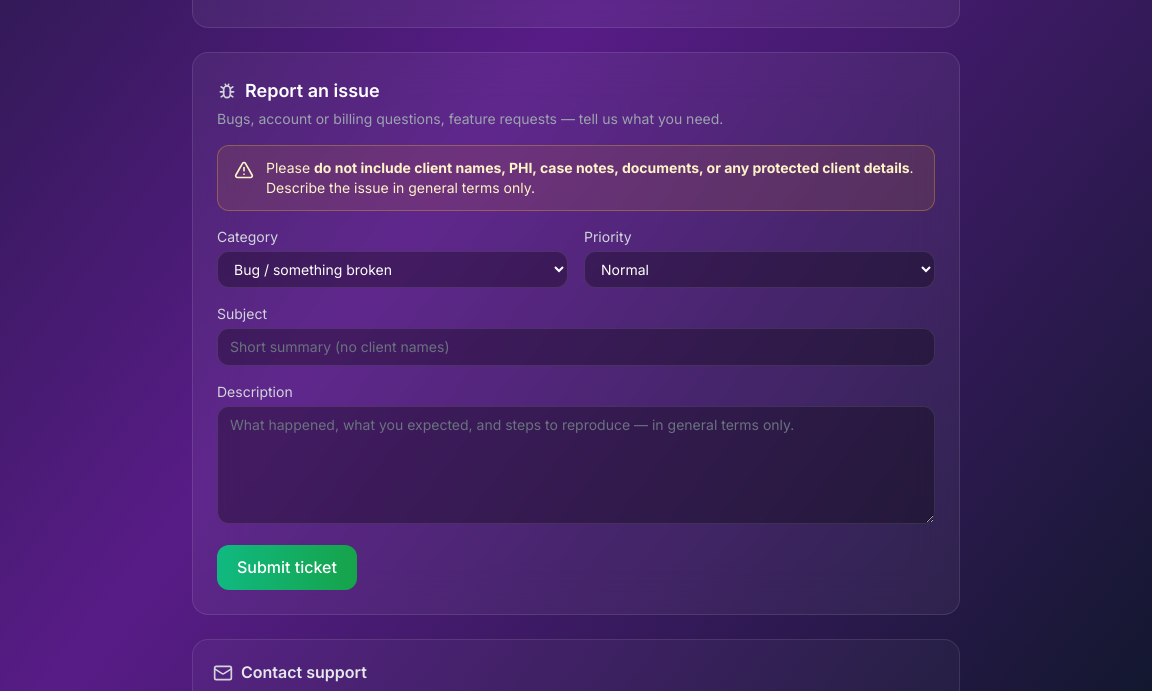
Test: Help & Support page › submits a support ticket to the API
The image size is (1152, 691).
(page scrolled)
Step 1. Type "Cannot log in" into the field with placeholder "Short summary (no client names)" → (576, 347), box [217, 328, 935, 366]
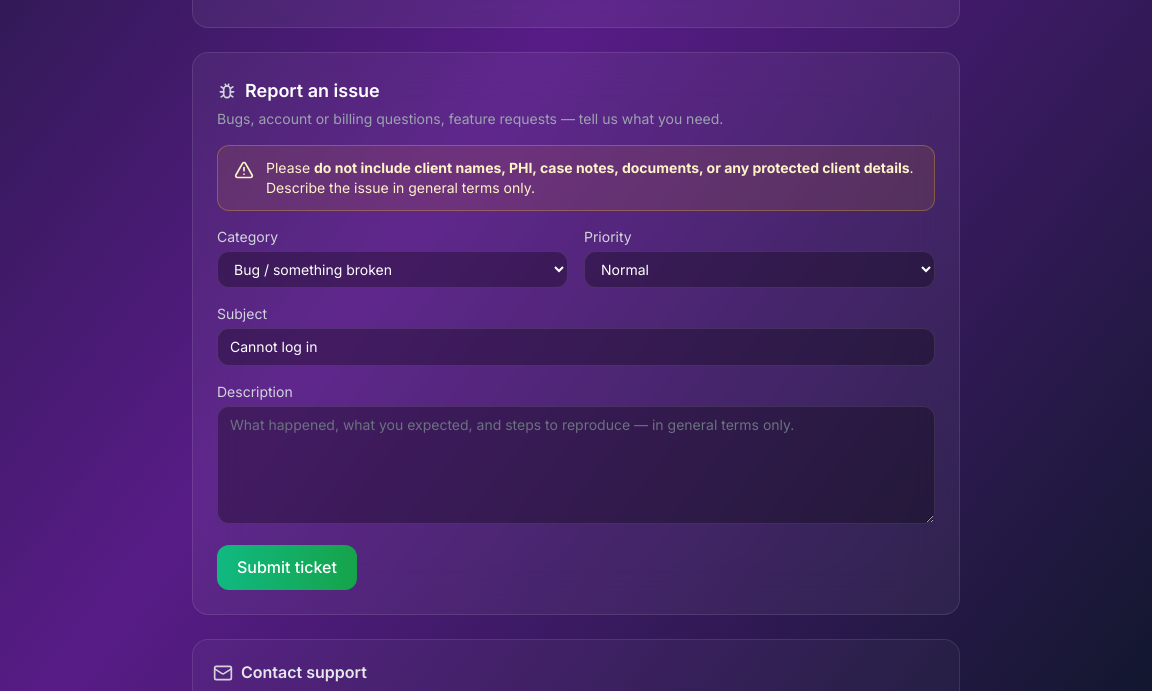
Step 2. Replace the text in the text box with placeholder "What happened" with "Sign-in page errors out." → (576, 465), box [217, 406, 935, 524]
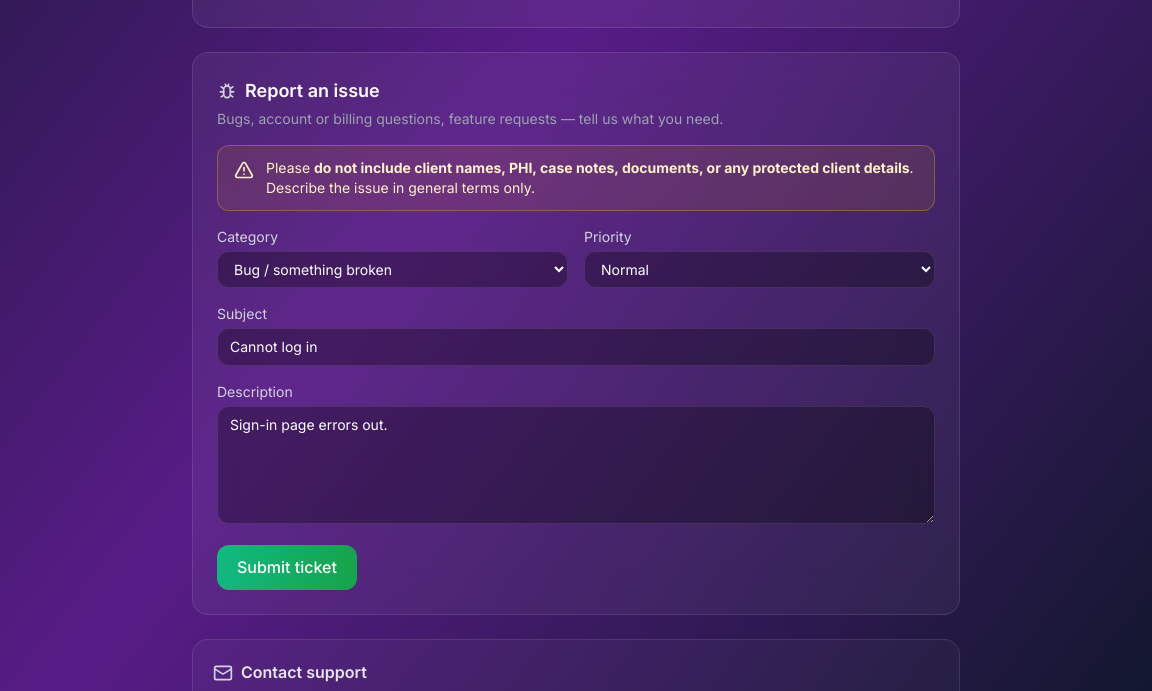
Step 3. Click the button "Submit ticket" → (287, 568), box [217, 545, 357, 590]
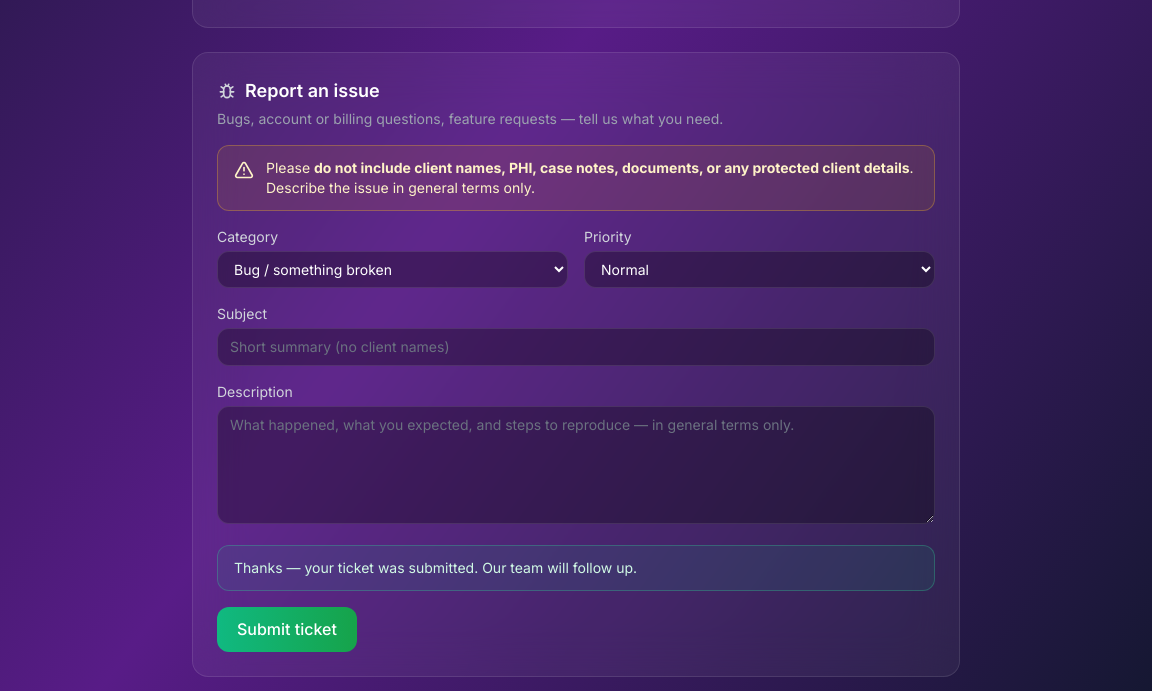
Now the text "Thanks — your ticket was submitted. Our team will follow up." is shown, box [217, 545, 935, 591]
